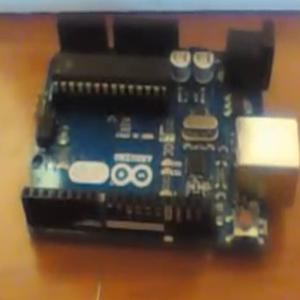duino: (21, 0, 300, 254)
